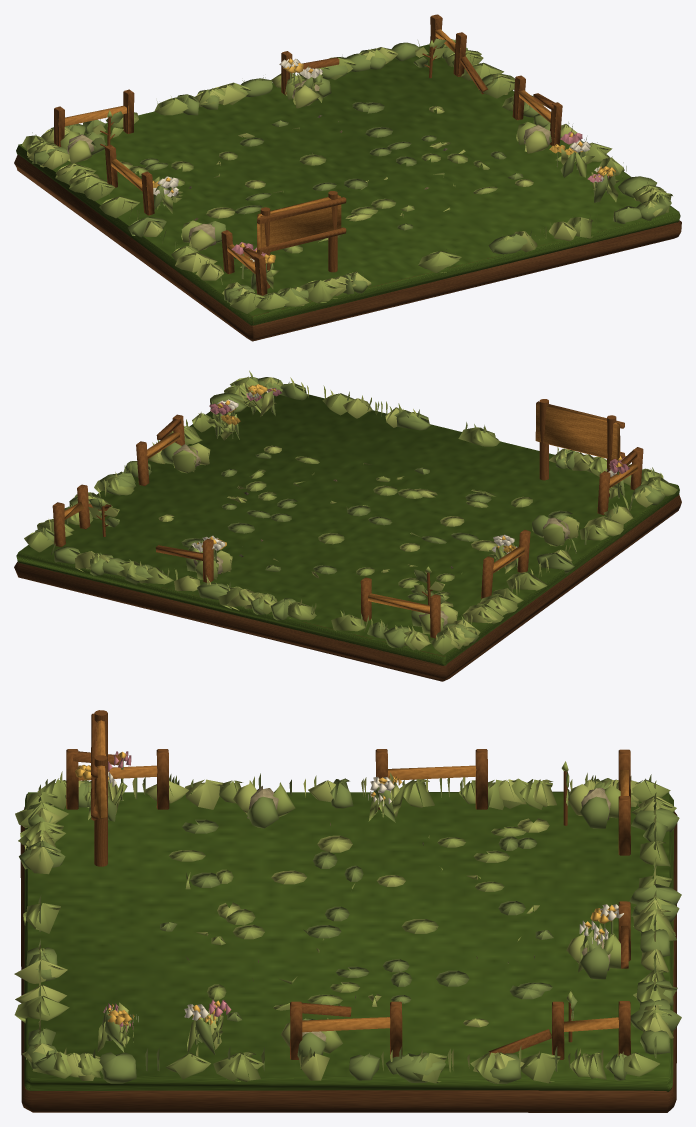
Rendered from stage-1-low.glb.
3 renders of one model, top to bottom at view 1: azimuth 30°, elevation 25°; view 2: azimuth 150°, elevation 25°; view 3: azimuth 270°, elevation 25°, orthographic. The views are drawn at different scales.
Parts seen in each view (by area): view 1: Surface_Moss lawn, Surface_Foliage 1, Surface_Foliage 0, Surface_Ochre earth, Surface_Foliage 2, Surface_Honey wood, Surface_Golden end grain, Surface_Petal ivory, Surface_Stone 1, Surface_Petal marigold; view 2: Surface_Moss lawn, Surface_Foliage 1, Surface_Foliage 0, Surface_Ochre earth, Surface_Foliage 2, Surface_Honey wood, Surface_Golden end grain, Surface_Petal ivory, Surface_Stone 1, Surface_Petal marigold, Surface_Petal blush; view 3: Surface_Moss lawn, Surface_Foliage 1, Surface_Foliage 0, Surface_Ochre earth, Surface_Foliage 2, Surface_Honey wood, Surface_Golden end grain, Surface_Petal ivory, Surface_Petal marigold, Surface_Stone 1.
Boxes of the visible parts, x1=… form: Surface_Moss lawn: x1=16, y1=44, x2=680, y2=325; Surface_Foliage 1: x1=22, y1=39, x2=672, y2=313; Surface_Foliage 0: x1=32, y1=38, x2=671, y2=308; Surface_Ochre earth: x1=14, y1=154, x2=681, y2=341; Surface_Foliage 2: x1=27, y1=40, x2=666, y2=306; Surface_Honey wood: x1=54, y1=14, x2=562, y2=295; Surface_Golden end grain: x1=58, y1=29, x2=555, y2=273; Surface_Petal ivory: x1=153, y1=58, x2=604, y2=261; Surface_Stone 1: x1=67, y1=79, x2=550, y2=245; Surface_Petal marigold: x1=152, y1=58, x2=615, y2=264; Surface_Moss lawn: x1=16, y1=394, x2=679, y2=665; Surface_Foliage 1: x1=24, y1=370, x2=677, y2=654; Surface_Foliage 0: x1=35, y1=375, x2=665, y2=647; Surface_Ochre earth: x1=14, y1=494, x2=681, y2=681; Surface_Foliage 2: x1=32, y1=376, x2=663, y2=650; Surface_Honey wood: x1=52, y1=399, x2=643, y2=638; Surface_Golden end grain: x1=64, y1=402, x2=637, y2=613; Surface_Petal ivory: x1=191, y1=388, x2=619, y2=553; Surface_Stone 1: x1=173, y1=444, x2=570, y2=626; Surface_Petal marigold: x1=197, y1=384, x2=625, y2=552; Surface_Petal blush: x1=209, y1=388, x2=629, y2=473; Surface_Moss lawn: x1=24, y1=791, x2=673, y2=1091; Surface_Foliage 1: x1=14, y1=761, x2=677, y2=1083; Surface_Foliage 0: x1=19, y1=760, x2=681, y2=1083; Surface_Ochre earth: x1=20, y1=807, x2=677, y2=1112; Surface_Foliage 2: x1=14, y1=771, x2=675, y2=1080; Surface_Honey wood: x1=66, y1=710, x2=630, y2=1059; Surface_Golden end grain: x1=78, y1=720, x2=628, y2=1032; Surface_Petal ivory: x1=104, y1=771, x2=623, y2=1022; Surface_Petal marigold: x1=75, y1=751, x2=616, y2=1025; Surface_Stone 1: x1=247, y1=786, x2=610, y2=1055.
Size of the model in its own units: 7.43 by 1.66 by 7.02.
13 materials, 7 textured.
